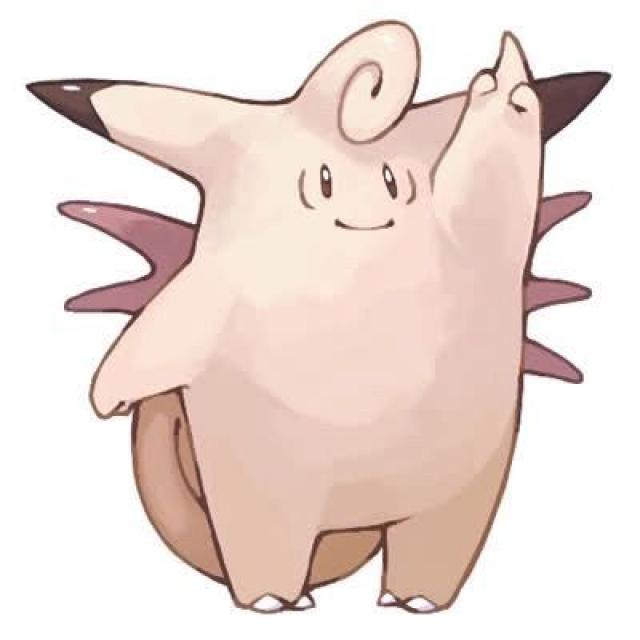Clefable: (176, 16, 546, 621)
